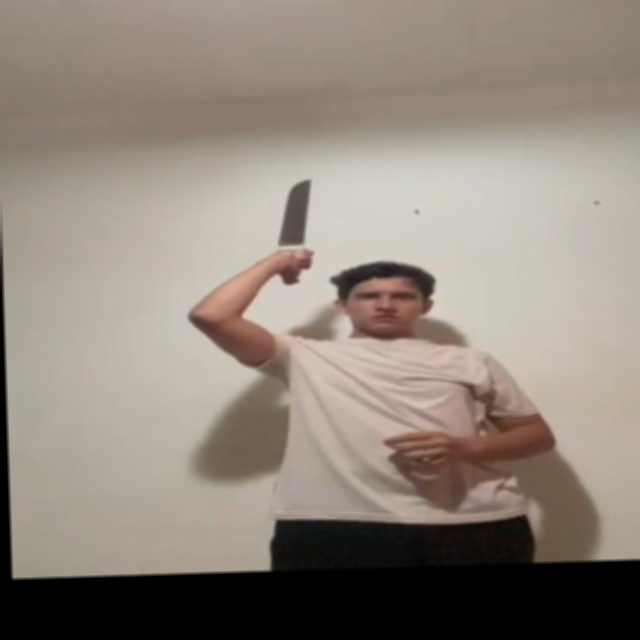Sharp-Object: (276, 178, 317, 243)
